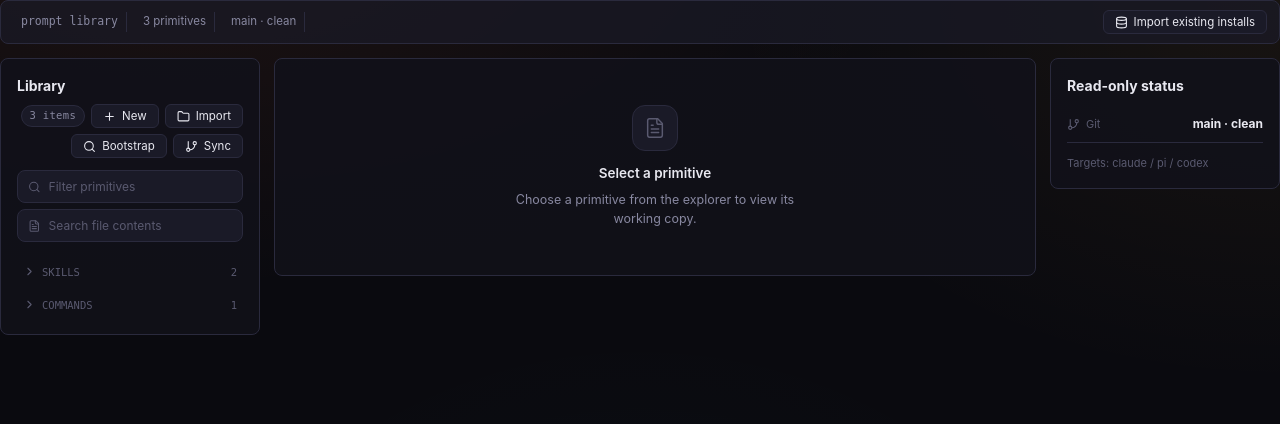
it: Library route — explorer, collapse, selection, detail › clicking a Kind header expands it to reveal its primitives
Click the button "Skills 2" at [130, 272], box [17,258,243,285]
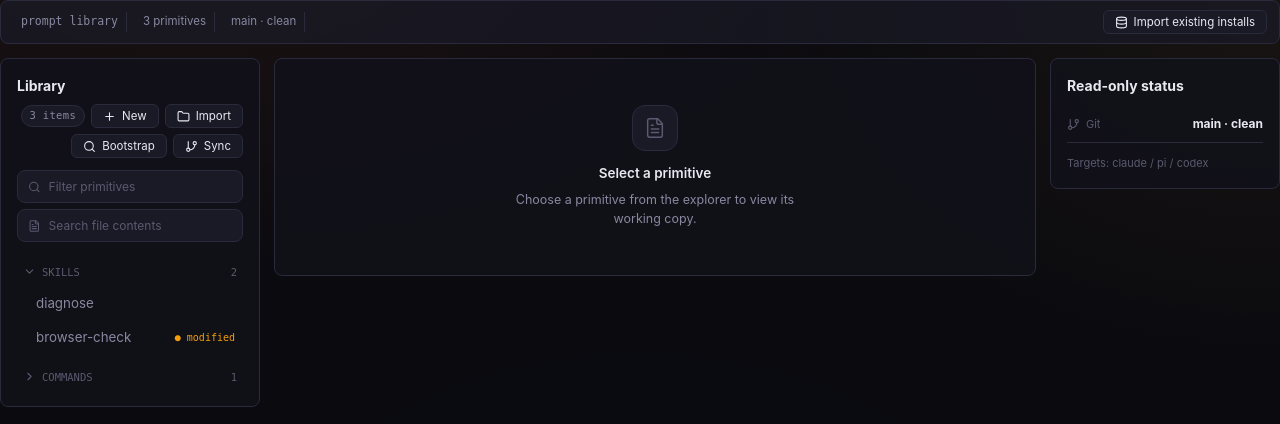
Expected: the text "diagnose" is shown, [36,295,94,311]
Expected: the text "browser-check" is shown, [36,329,131,345]
Expected: the text "● modified" is shown, [175,332,235,342]
# collapsing hides them again
Click the button "Skills 2" at [130, 272], box [17,258,243,285]
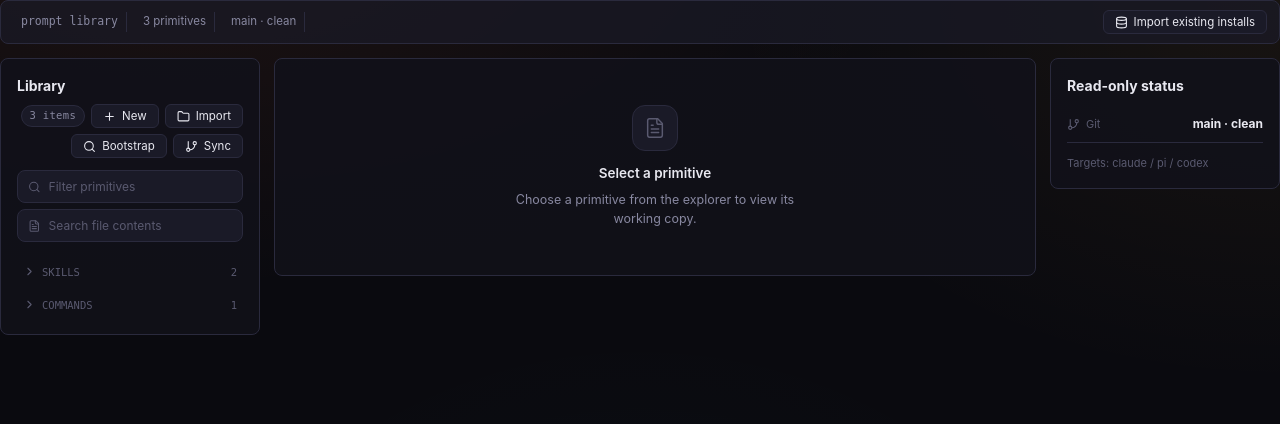
Expected: the button "diagnose" is gone
